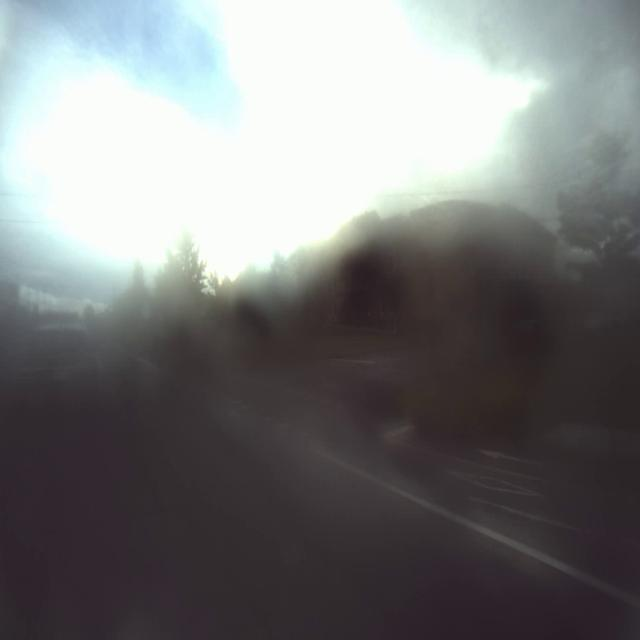car: (29, 308, 101, 438)
